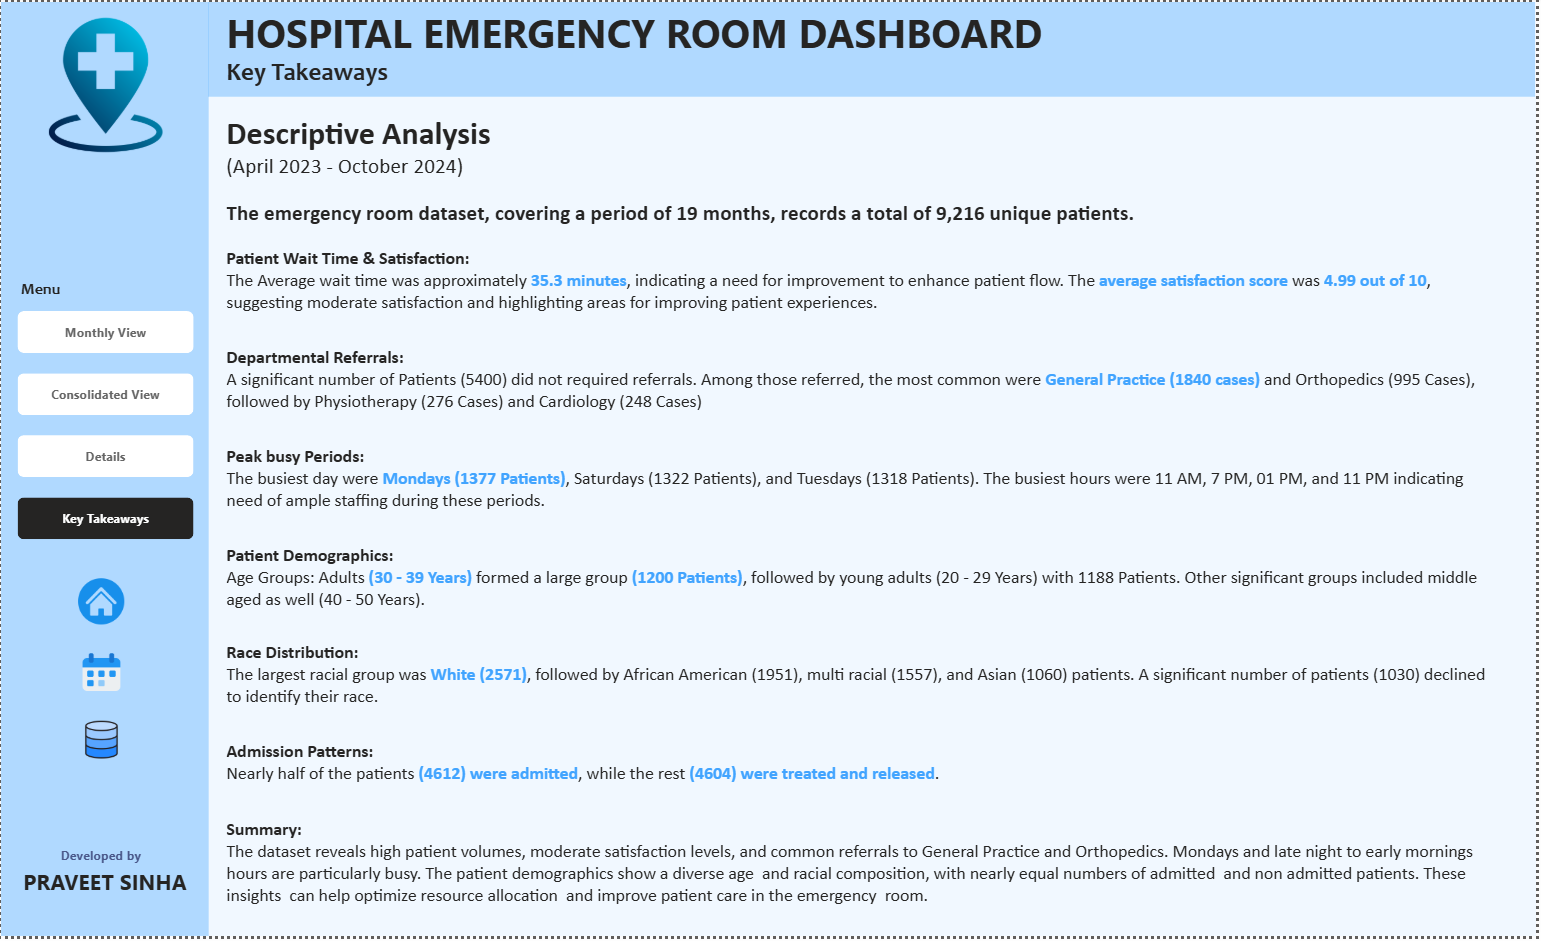

The page's visual inventory and layout, read from the dashboard file:
{"tool":"powerbi","page":{"name":"Key Takeaways","canvas":[2300,1400],"ordinal":3},"visuals":[{"type":"shape","box":[0,0,311.3,1399.9],"z":0},{"type":"shape","box":[311.3,0,1989.1,142.1],"z":1000},{"type":"textbox","box":[332.2,0,1280.5,90],"z":2000},{"type":"image","box":[46.9,17.9,218.9,212.2],"z":3000},{"type":"textbox","box":[333.7,76.1,411.3,59],"z":4000},{"type":"textbox","box":[333.7,161.4,707.8,113.3],"z":5000},{"type":"textbox","box":[332.2,290.2,1930.8,59],"z":6000},{"type":"textbox","box":[333.4,362.4,1905.4,116],"z":7000},{"type":"textbox","box":[333.4,510.3,1905.4,116],"z":8000},{"type":"textbox","box":[333.4,658.2,1905.4,116],"z":9000},{"type":"textbox","box":[333.4,806.1,1905.4,116],"z":10000},{"type":"textbox","box":[331.8,954,1905.4,116],"z":11000},{"type":"textbox","box":[333.4,1101.9,1905.4,85.4],"z":12000},{"type":"textbox","box":[333.4,1219.3,1905.4,149.8],"z":13000},{"type":"pageNavigator","box":[24.2,462.3,264.1,343.1],"z":14000},{"type":"textbox","box":[24.2,409.1,99.9,48.3],"z":15000},{"type":"textbox","box":[77.3,1261.1,146.6,37],"z":16000},{"type":"textbox","box":[25.8,1290.1,262.5,62.8],"z":17000},{"type":"textbox","box":[29,1336.8,257.7,45.1],"z":18000},{"type":"image","box":[110.1,854.1,79.5,87.7],"z":19000},{"type":"image","box":[116.2,966.2,67.3,75.4],"z":20000},{"type":"image","box":[116.2,1068.1,67.3,75.4],"z":21000}]}

Visuals, with their boxes in screenshot pixels (x1, y1, x2, y2), scaled from the page's 2300x1400 canvas onto the 1541x941 screenshot:
shape: [left=0, top=0, right=209, bottom=940]
shape: [left=209, top=0, right=1540, bottom=96]
textbox: [left=223, top=0, right=1081, bottom=60]
image: [left=31, top=12, right=178, bottom=155]
textbox: [left=224, top=51, right=499, bottom=91]
textbox: [left=224, top=108, right=698, bottom=185]
textbox: [left=223, top=195, right=1516, bottom=235]
textbox: [left=223, top=244, right=1500, bottom=322]
textbox: [left=223, top=343, right=1500, bottom=421]
textbox: [left=223, top=442, right=1500, bottom=520]
textbox: [left=223, top=542, right=1500, bottom=620]
textbox: [left=222, top=641, right=1499, bottom=719]
textbox: [left=223, top=741, right=1500, bottom=798]
textbox: [left=223, top=820, right=1500, bottom=920]
pageNavigator: [left=16, top=311, right=193, bottom=541]
textbox: [left=16, top=275, right=83, bottom=307]
textbox: [left=52, top=848, right=150, bottom=873]
textbox: [left=17, top=867, right=193, bottom=909]
textbox: [left=19, top=899, right=192, bottom=929]
image: [left=74, top=574, right=127, bottom=633]
image: [left=78, top=649, right=123, bottom=700]
image: [left=78, top=718, right=123, bottom=769]
